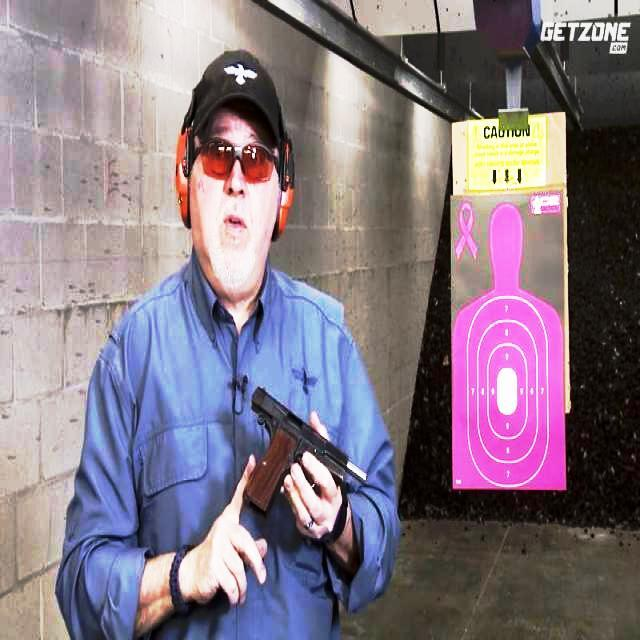Gun: (238, 375, 370, 526)
